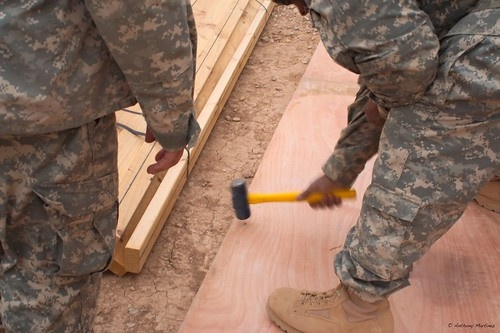hammer: (229, 179, 357, 218)
